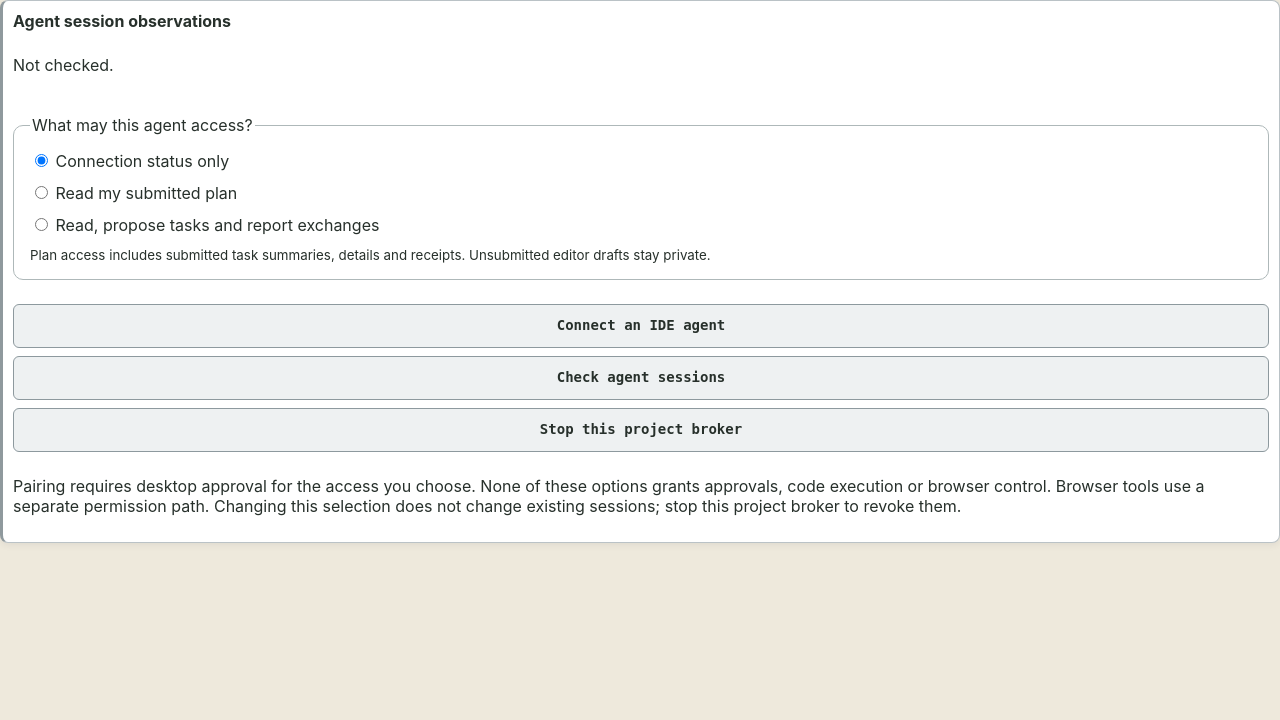
Scenario: refuses missing or unexpected proposal authority for plan choice
Step 1. Click the radio button labelled "Read my submitted plan" → (42, 192), box left=35, top=186, right=48, bottom=199
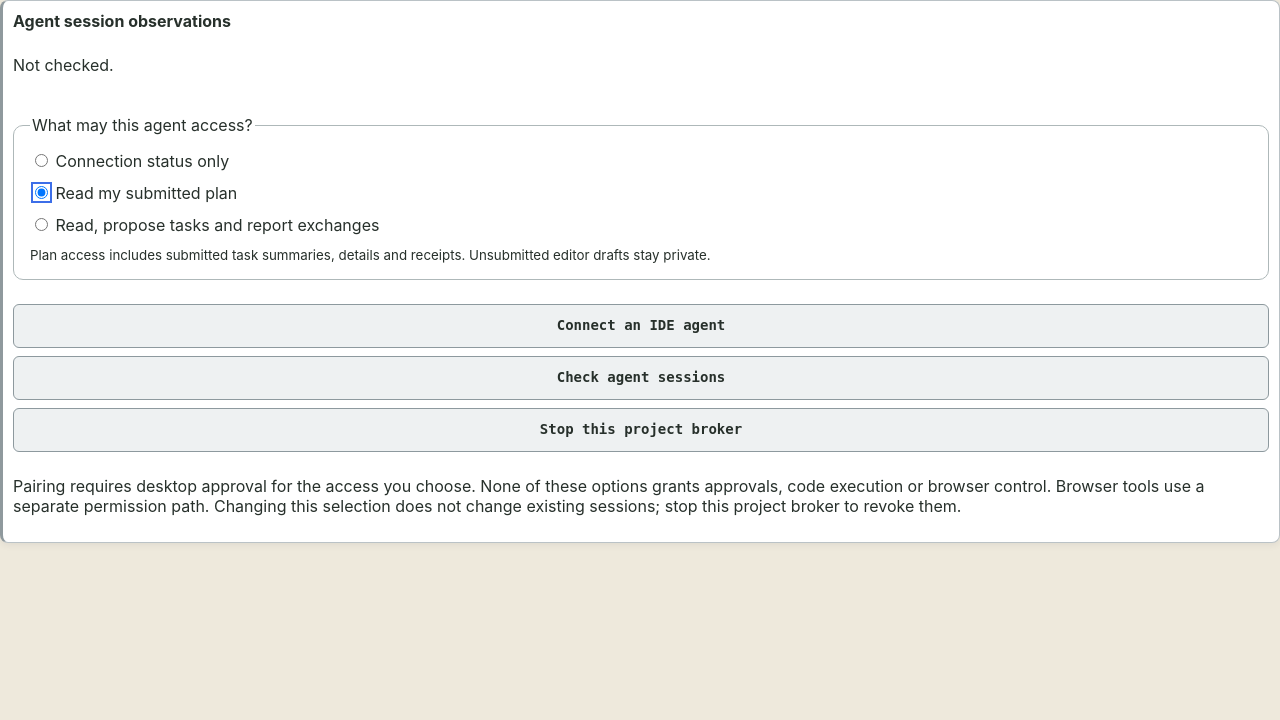
Step 2. Click the button "Connect an IDE agent" → (641, 326), box left=13, top=304, right=1269, bottom=348
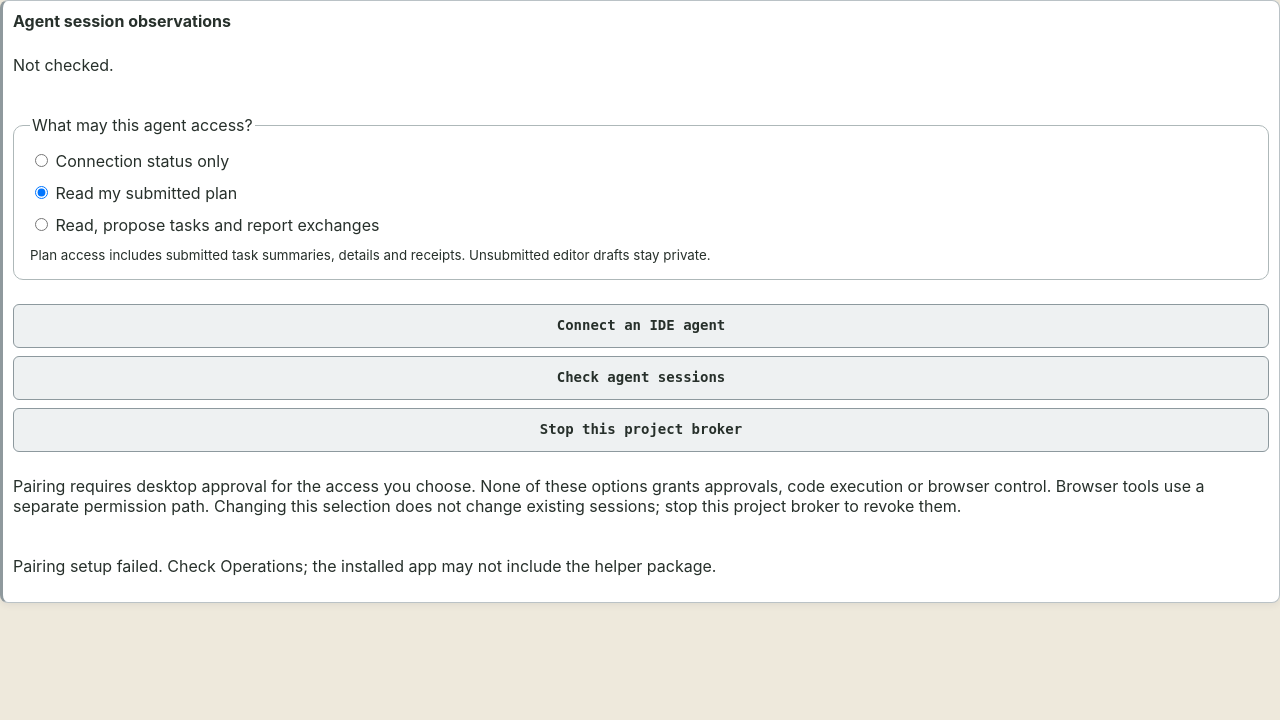
Expected: the text "Pairing setup failed" is shown, left=13, top=556, right=716, bottom=576
